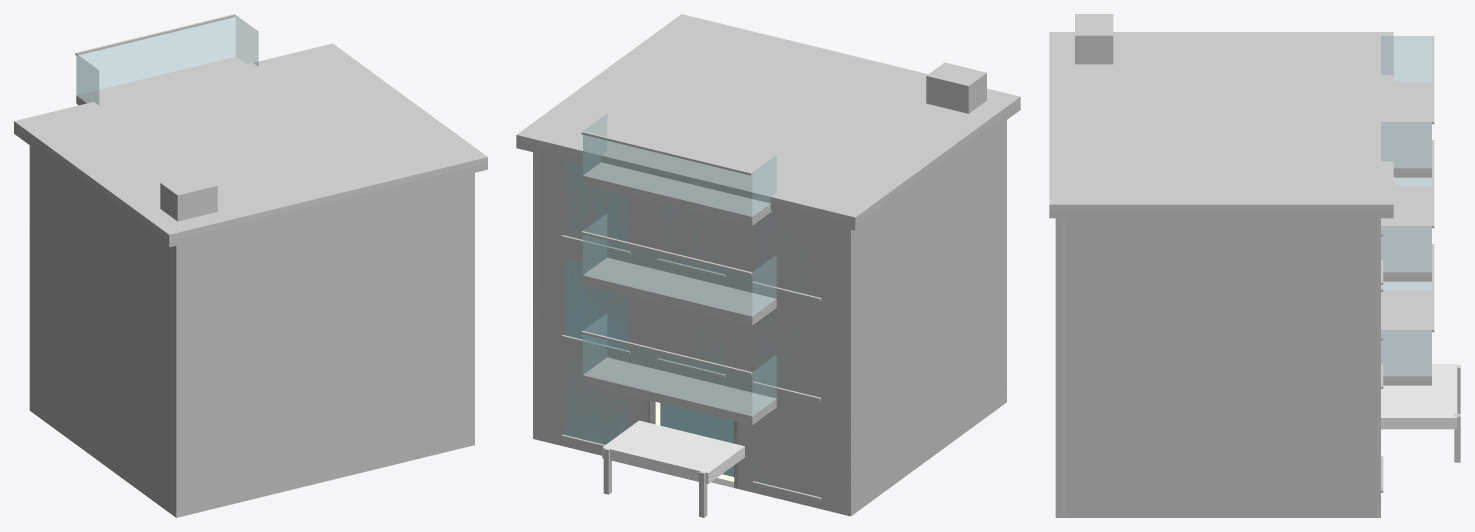
The model's file is Building_2_1.glb.
The picture shows the model from 3 angles, left to right: view 1: azimuth 30°, elevation 25°; view 2: azimuth 150°, elevation 25°; view 3: azimuth 270°, elevation 25°; orthographic projection. The views are drawn at different scales.
Parts seen in each view (by area): view 1: Walls.Back, Roof, Walls.Left, Balconies.RailFront_3, Roof_Unit, Roof.FasciaBack, Balconies.Slab_3, Roof.FasciaLeft, Balconies.RailLeft_3, Balconies.RailRight_3, Walls.Front_L, Pilasters.BL (+1 smaller); view 2: Roof, Walls.Left, Walls.Front_L, Walls.Front_R, Walls.Front_T, Balconies.RailFront_3, Balconies.RailFront_2, Balconies.RailFront_1, Balconies.Slab_1, Balconies.Slab_2, Canopy.Slab, Balconies.Slab_3 (+22 smaller); view 3: Walls.Right, Roof, Balconies.Slab_1, Balconies.Slab_2, Canopy.Slab, Balconies.Slab_3, Roof.FasciaRight, Walls.Back, Balconies.RailRight_1, Balconies.RailRight_2, Balconies.RailLeft_3, Balconies.RailRight_3 (+4 smaller).
Part boxes in pixels (x1,y1,x2,y2): Walls.Back: (173,173,474,517); Roof: (14,43,487,240); Walls.Left: (29,147,173,514); Balconies.RailFront_3: (76,16,235,94); Roof_Unit: (160,173,217,221); Roof.FasciaBack: (169,163,487,247); Balconies.Slab_3: (76,56,246,105); Roof.FasciaLeft: (14,127,169,246); Balconies.RailLeft_3: (76,54,98,104); Balconies.RailRight_3: (236,15,258,66); Walls.Front_L: (29,146,32,412); Pilasters.BL: (171,246,173,515); Roof: (516,14,1020,224); Walls.Left: (845,124,1003,515); Walls.Front_L: (735,211,853,516); Walls.Front_R: (533,153,648,455); Walls.Front_T: (648,200,735,388); Balconies.RailFront_3: (583,135,751,216); Balconies.RailFront_2: (583,235,751,316); Balconies.RailFront_1: (583,334,751,415); Balconies.Slab_1: (583,357,776,425); Balconies.Slab_2: (583,257,776,325); Canopy.Slab: (602,420,744,483); Balconies.Slab_3: (583,162,772,225); Walls.Right: (1062,218,1380,517); Roof: (1049,32,1393,211); Balconies.Slab_1: (1381,290,1431,385); Balconies.Slab_2: (1381,186,1431,281); Canopy.Slab: (1381,364,1457,429); Balconies.Slab_3: (1393,82,1431,177); Roof.FasciaRight: (1049,211,1393,218); Walls.Back: (1055,218,1062,517); Balconies.RailRight_1: (1381,330,1431,375); Balconies.RailRight_2: (1381,226,1431,271); Balconies.RailLeft_3: (1381,36,1431,81); Balconies.RailRight_3: (1381,122,1431,167).
Bounding box in the file's own units: 3.2 × 3.1 × 3.23.
